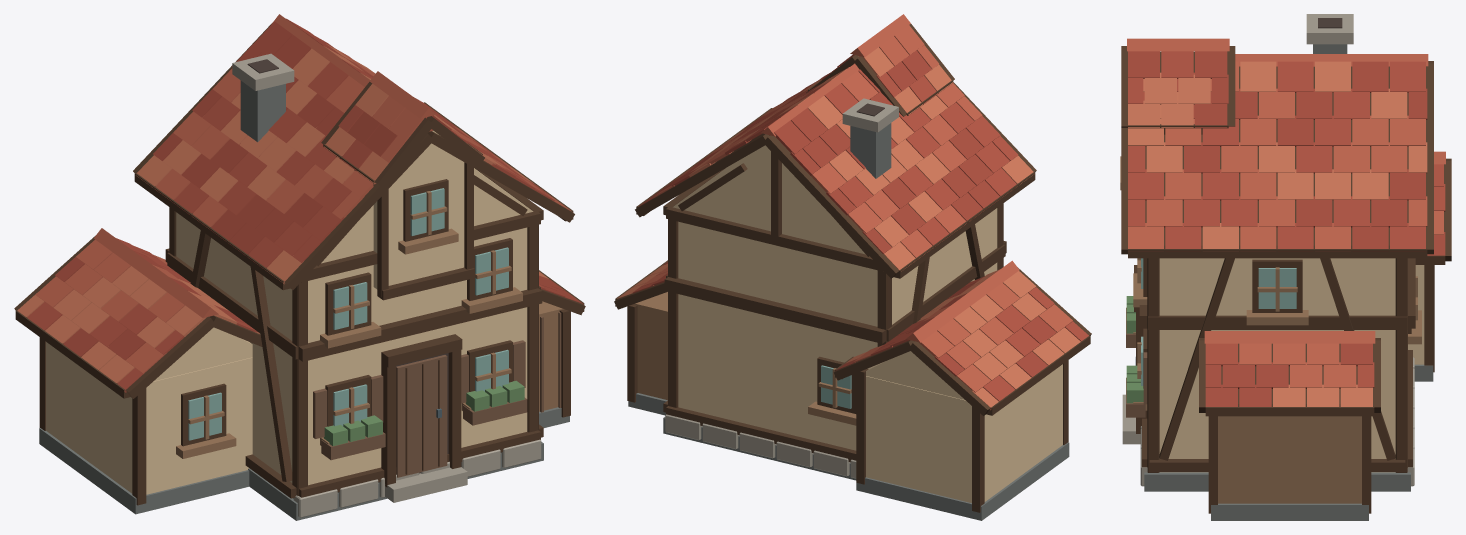
File: ENV_Cottage_A_LOD0.glb
The picture shows the model from 3 angles, left to right: view 1: azimuth 30°, elevation 25°; view 2: azimuth 150°, elevation 25°; view 3: azimuth 270°, elevation 25°; orthographic projection. The views are drawn at different scales.
Visible parts, largest first — view 1: ENV_Cottage_A_LOD0_roof_upper_roofTiles, ENV_Cottage_A_LOD0_shell_upper_plaster, ENV_Cottage_A_LOD0_shell_upper_woodDark, ENV_Cottage_A_LOD0_wing_plaster, ENV_Cottage_A_LOD0_wing_roofTiles, ENV_Cottage_A_LOD0_shell_upper_wood, ENV_Cottage_A_LOD0_upper_rooms_woodDark, ENV_Cottage_A_LOD0_wing_woodDark, ENV_Cottage_A_LOD0_master_gable_woodDark, ENV_Cottage_A_LOD0_roof_upper_woodDark, ENV_Cottage_A_LOD0_master_gable_plaster, ENV_Cottage_A_LOD0_master_gable_roofTiles (+19 smaller); view 2: ENV_Cottage_A_LOD0_shell_upper_plaster, ENV_Cottage_A_LOD0_roof_upper_roofTiles, ENV_Cottage_A_LOD0_wing_plaster, ENV_Cottage_A_LOD0_wing_roofTiles, ENV_Cottage_A_LOD0_shell_upper_woodDark, ENV_Cottage_A_LOD0_wing_woodDark, ENV_Cottage_A_LOD0_roof_upper_woodDark, ENV_Cottage_A_LOD0_upper_rooms_woodDark, ENV_Cottage_A_LOD0_master_gable_roofTiles, ENV_Cottage_A_LOD0_foundation_stone, ENV_Cottage_A_LOD0_wing_stoneDark, ENV_Cottage_A_LOD0_shed_woodLight (+7 smaller); view 3: ENV_Cottage_A_LOD0_roof_upper_roofTiles, ENV_Cottage_A_LOD0_shell_upper_plaster, ENV_Cottage_A_LOD0_shed_roofTiles, ENV_Cottage_A_LOD0_shed_woodLight, ENV_Cottage_A_LOD0_shell_upper_woodDark, ENV_Cottage_A_LOD0_master_gable_roofTiles, ENV_Cottage_A_LOD0_roof_upper_woodDark, ENV_Cottage_A_LOD0_upper_rooms_woodDark, ENV_Cottage_A_LOD0_shed_woodDark, ENV_Cottage_A_LOD0_shed_stoneDark, ENV_Cottage_A_LOD0_wing_woodDark, ENV_Cottage_A_LOD0_foundation_stoneDark (+11 smaller).
Part boxes in pixels (x1=…): ENV_Cottage_A_LOD0_roof_upper_roofTiles: x1=136, y1=14, x2=572, y2=284; ENV_Cottage_A_LOD0_shell_upper_plaster: x1=176, y1=168, x2=533, y2=485; ENV_Cottage_A_LOD0_shell_upper_woodDark: x1=169, y1=168, x2=543, y2=498; ENV_Cottage_A_LOD0_wing_plaster: x1=46, y1=327, x2=252, y2=494; ENV_Cottage_A_LOD0_wing_roofTiles: x1=17, y1=228, x2=259, y2=392; ENV_Cottage_A_LOD0_shell_upper_wood: x1=313, y1=340, x2=525, y2=477; ENV_Cottage_A_LOD0_upper_rooms_woodDark: x1=165, y1=238, x2=542, y2=361; ENV_Cottage_A_LOD0_wing_woodDark: x1=14, y1=235, x2=262, y2=505; ENV_Cottage_A_LOD0_master_gable_woodDark: x1=321, y1=81, x2=484, y2=300; ENV_Cottage_A_LOD0_roof_upper_woodDark: x1=133, y1=23, x2=574, y2=290; ENV_Cottage_A_LOD0_master_gable_plaster: x1=373, y1=130, x2=464, y2=289; ENV_Cottage_A_LOD0_master_gable_roofTiles: x1=324, y1=71, x2=482, y2=183; ENV_Cottage_A_LOD0_shell_upper_plaster: x1=673, y1=145, x2=997, y2=450; ENV_Cottage_A_LOD0_roof_upper_roofTiles: x1=638, y1=56, x2=1033, y2=271; ENV_Cottage_A_LOD0_wing_plaster: x1=866, y1=351, x2=1062, y2=502; ENV_Cottage_A_LOD0_wing_roofTiles: x1=835, y1=260, x2=1088, y2=410; ENV_Cottage_A_LOD0_shell_upper_woodDark: x1=663, y1=151, x2=1003, y2=462; ENV_Cottage_A_LOD0_wing_woodDark: x1=833, y1=267, x2=1091, y2=512; ENV_Cottage_A_LOD0_roof_upper_woodDark: x1=635, y1=81, x2=1036, y2=278; ENV_Cottage_A_LOD0_upper_rooms_woodDark: x1=664, y1=241, x2=1006, y2=343; ENV_Cottage_A_LOD0_master_gable_roofTiles: x1=810, y1=14, x2=953, y2=114; ENV_Cottage_A_LOD0_foundation_stone: x1=665, y1=414, x2=856, y2=478; ENV_Cottage_A_LOD0_wing_stoneDark: x1=856, y1=442, x2=1069, y2=520; ENV_Cottage_A_LOD0_shed_woodLight: x1=634, y1=292, x2=667, y2=399; ENV_Cottage_A_LOD0_roof_upper_roofTiles: x1=1128, y1=54, x2=1428, y2=251; ENV_Cottage_A_LOD0_shell_upper_plaster: x1=1159, y1=258, x2=1395, y2=472; ENV_Cottage_A_LOD0_shed_roofTiles: x1=1204, y1=331, x2=1375, y2=406; ENV_Cottage_A_LOD0_shed_woodLight: x1=1218, y1=416, x2=1361, y2=503; ENV_Cottage_A_LOD0_shell_upper_woodDark: x1=1134, y1=258, x2=1412, y2=472; ENV_Cottage_A_LOD0_master_gable_roofTiles: x1=1127, y1=38, x2=1229, y2=127; ENV_Cottage_A_LOD0_roof_upper_woodDark: x1=1121, y1=61, x2=1433, y2=258; ENV_Cottage_A_LOD0_upper_rooms_woodDark: x1=1139, y1=258, x2=1415, y2=329; ENV_Cottage_A_LOD0_shed_woodDark: x1=1199, y1=338, x2=1380, y2=513; ENV_Cottage_A_LOD0_shed_stoneDark: x1=1211, y1=503, x2=1368, y2=520; ENV_Cottage_A_LOD0_wing_woodDark: x1=1415, y1=158, x2=1451, y2=372; ENV_Cottage_A_LOD0_foundation_stoneDark: x1=1144, y1=472, x2=1410, y2=491.
Size of the model in its own units: 7.18 by 5.93 by 4.54.
